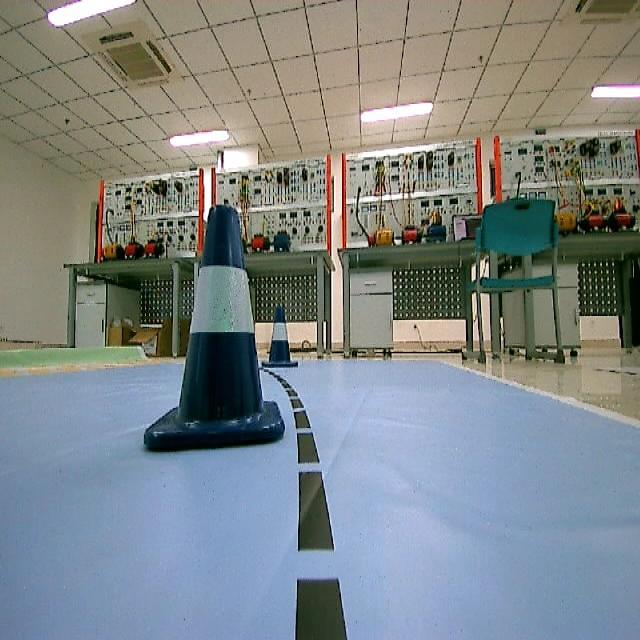obstacle: (133, 197, 284, 455), (264, 306, 298, 380)
